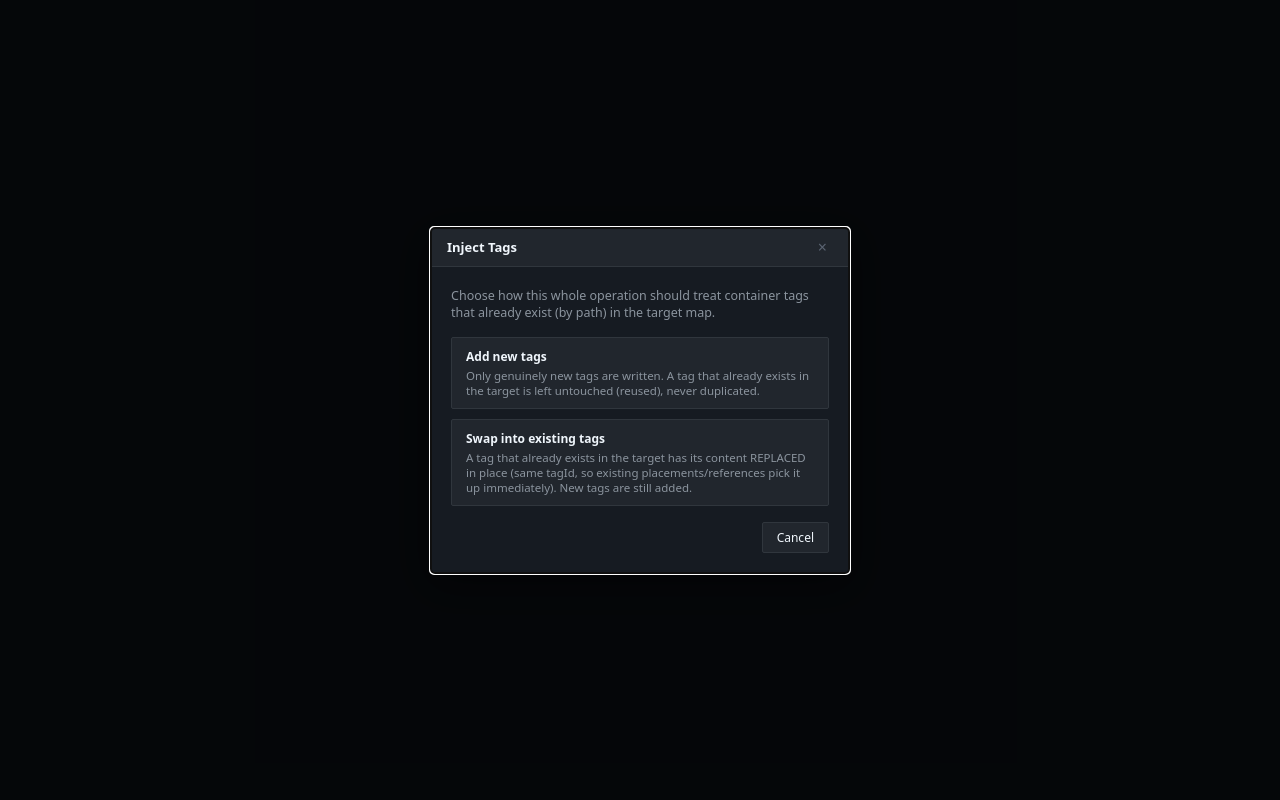
Test case: InjectDialog (in-memory inject) › applies to the open map without asking for an output file, and says nothing is written until Save / Save As
The image size is (1280, 800).
Click the button with test id "inject-mode-add" at (640, 372), box [451,336,829,408]
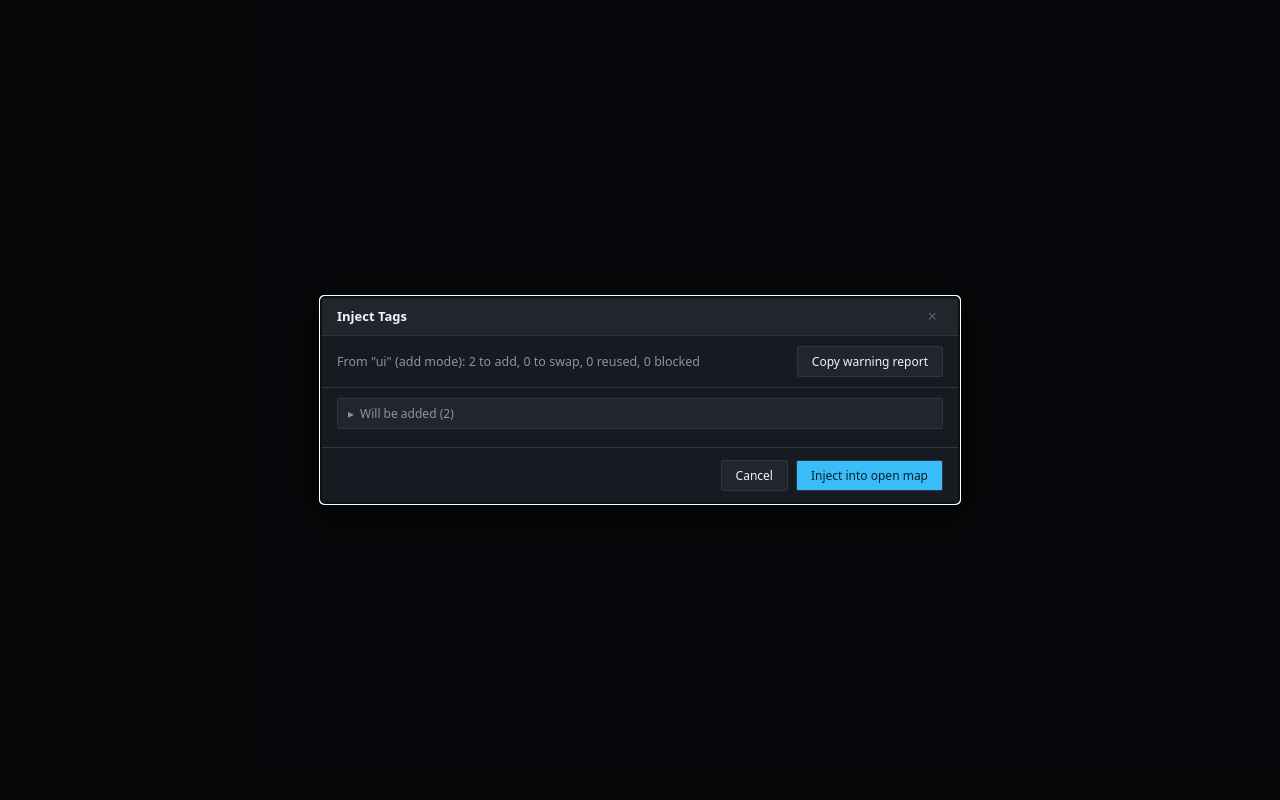
Result: the element with test id "inject-dialog-summary" is shown at [321,336,959,388]
Result: the button with test id "inject-copy-warning-report-button" is shown at [797,346,943,377]
Result: the button with test id "inject-confirm-button" reads "Inject into open map"
Click the button with test id "inject-confirm-button" at (869, 476), box [796,460,943,491]
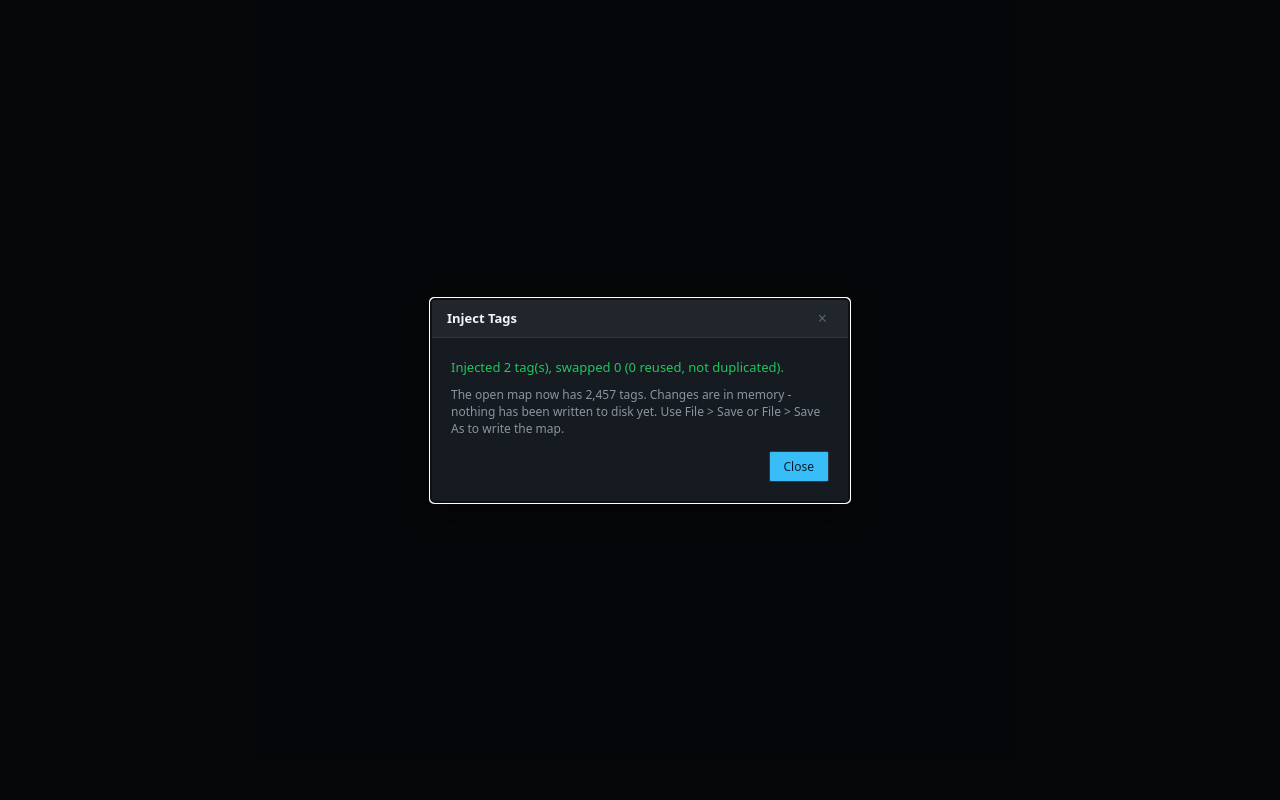
Result: the text with test id "inject-result-in-memory" shows "2,457 tags" at [451,386,829,436]
Result: the text with test id "inject-result-in-memory" shows "nothing has been written to disk yet" at [451,386,820,436]
